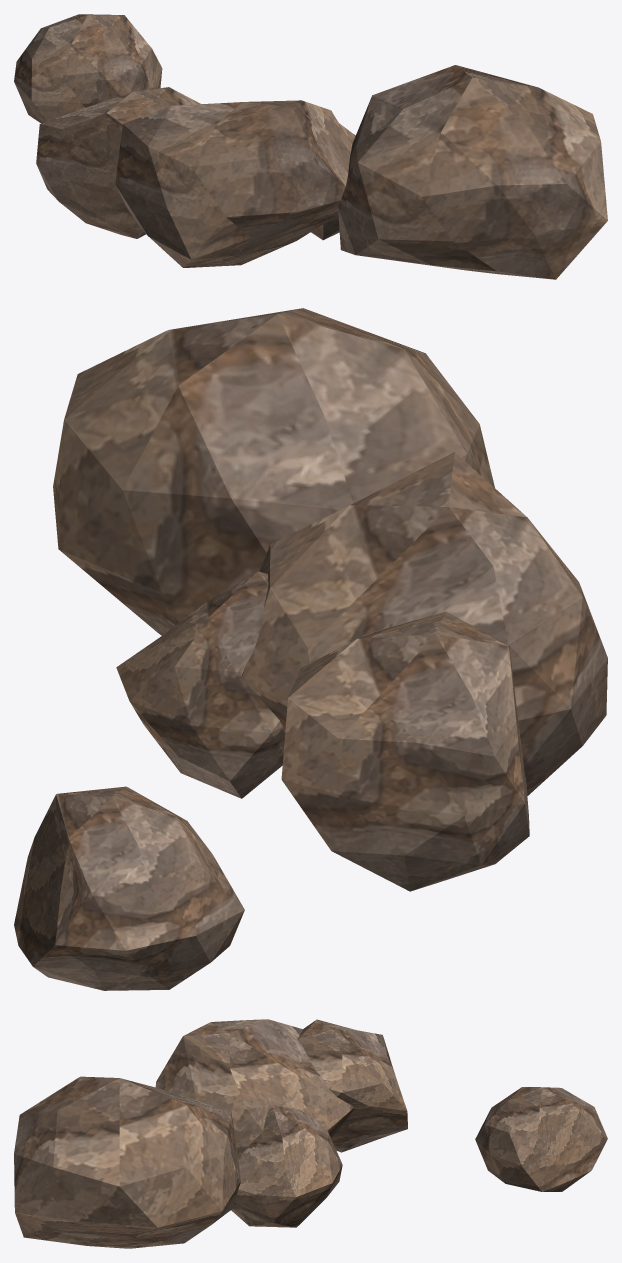
File: pebble-cluster.glb
3 renders of one model, top to bottom at view 1: azimuth 30°, elevation 25°; view 2: azimuth 150°, elevation 25°; view 3: azimuth 270°, elevation 25°, orthographic. The views are drawn at different scales.
Visible parts, largest first — view 1: peb0, peb3, peb2, peb4, peb1; view 2: peb0, peb3, peb4, peb2, peb1; view 3: peb0, peb3, peb2, peb1, peb4.
Part boxes in pixels (left/top/right/bottom): peb0: left=338, top=65, right=607, bottom=279; peb3: left=115, top=100, right=352, bottom=267; peb2: left=14, top=14, right=162, bottom=123; peb4: left=36, top=87, right=201, bottom=238; peb1: left=311, top=123, right=355, bottom=240; peb0: left=53, top=308, right=494, bottom=635; peb3: left=242, top=452, right=607, bottom=795; peb4: left=281, top=611, right=529, bottom=891; peb2: left=14, top=786, right=244, bottom=990; peb1: left=116, top=571, right=284, bottom=798; peb0: left=14, top=1076, right=240, bottom=1248; peb3: left=155, top=1019, right=354, bottom=1153; peb2: left=475, top=1087, right=607, bottom=1191; peb1: left=231, top=1106, right=342, bottom=1227; peb4: left=297, top=1019, right=407, bottom=1152.
Bounding box in the file's own units: 0.4545 × 0.2129 × 0.6483.
1 material, 1 textured.
